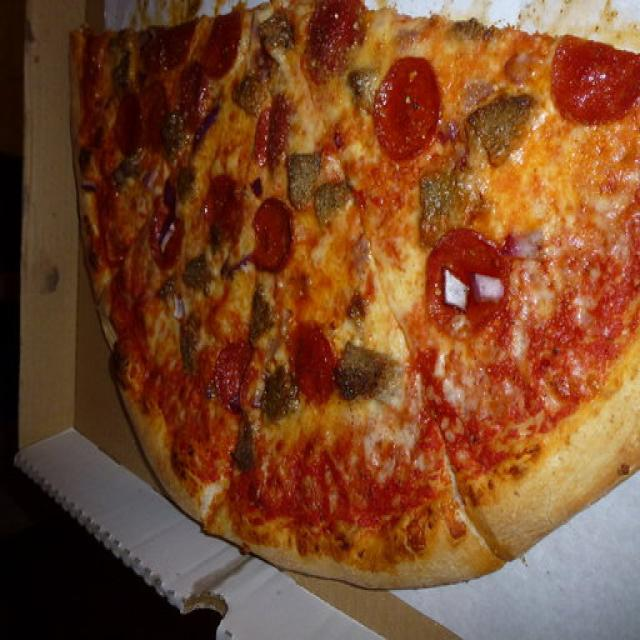Pepperoni: (430, 228, 504, 326), (556, 36, 634, 123), (374, 56, 434, 156), (116, 88, 178, 156), (200, 170, 247, 242), (291, 321, 335, 396), (316, 0, 368, 60), (195, 12, 243, 68), (253, 200, 292, 268), (216, 340, 250, 402), (146, 26, 188, 69), (182, 64, 198, 125), (158, 215, 173, 257)
Pizza: (68, 0, 640, 590)
Sausage: (475, 98, 530, 155), (338, 346, 388, 396), (420, 173, 458, 220), (243, 60, 271, 119), (289, 153, 315, 208), (231, 422, 255, 468), (322, 176, 346, 219)
